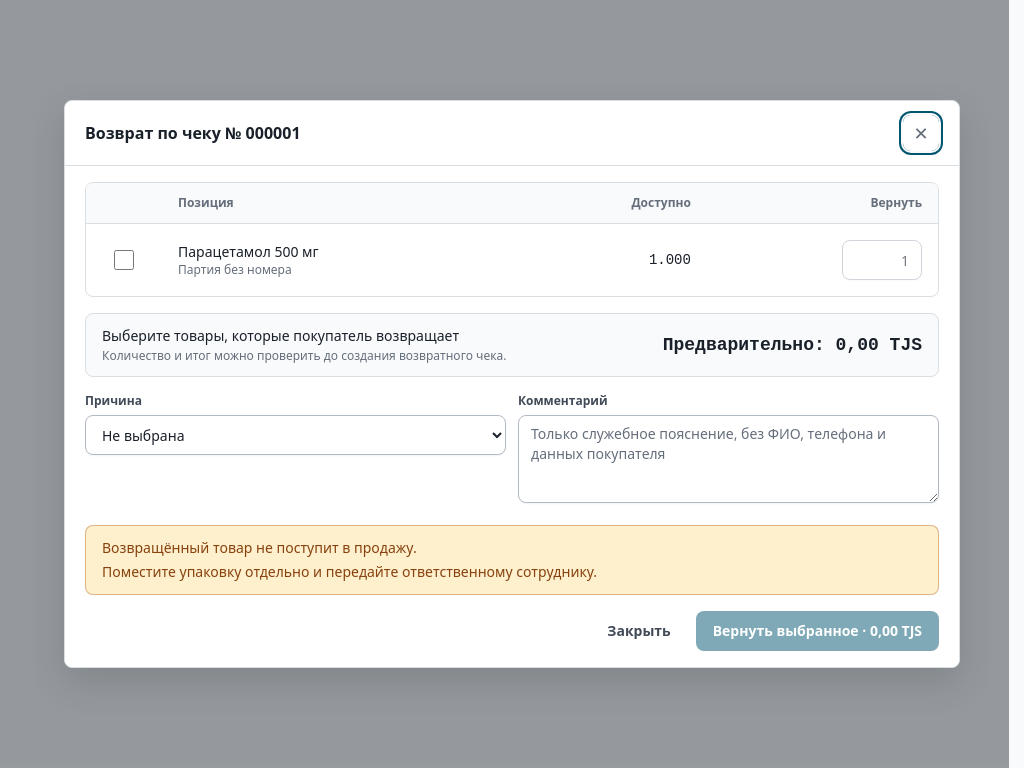
Test: RefundModal › preserves the cash refund command after POST 401 and a missing result
Click the checkbox named "Вернуть Парацетамол 500 мг" at coordinates (124, 260), box [114,250,134,270]
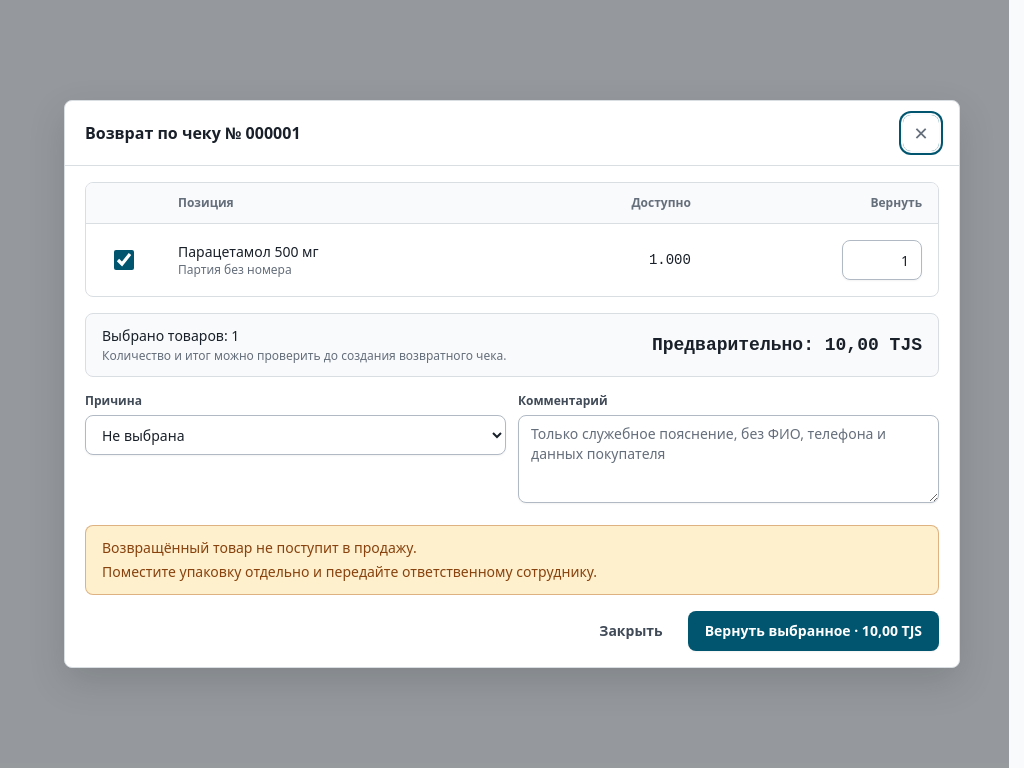
Click the button "Вернуть выбранное · 10,00 TJS" at coordinates (813, 631), box [688,611,939,651]
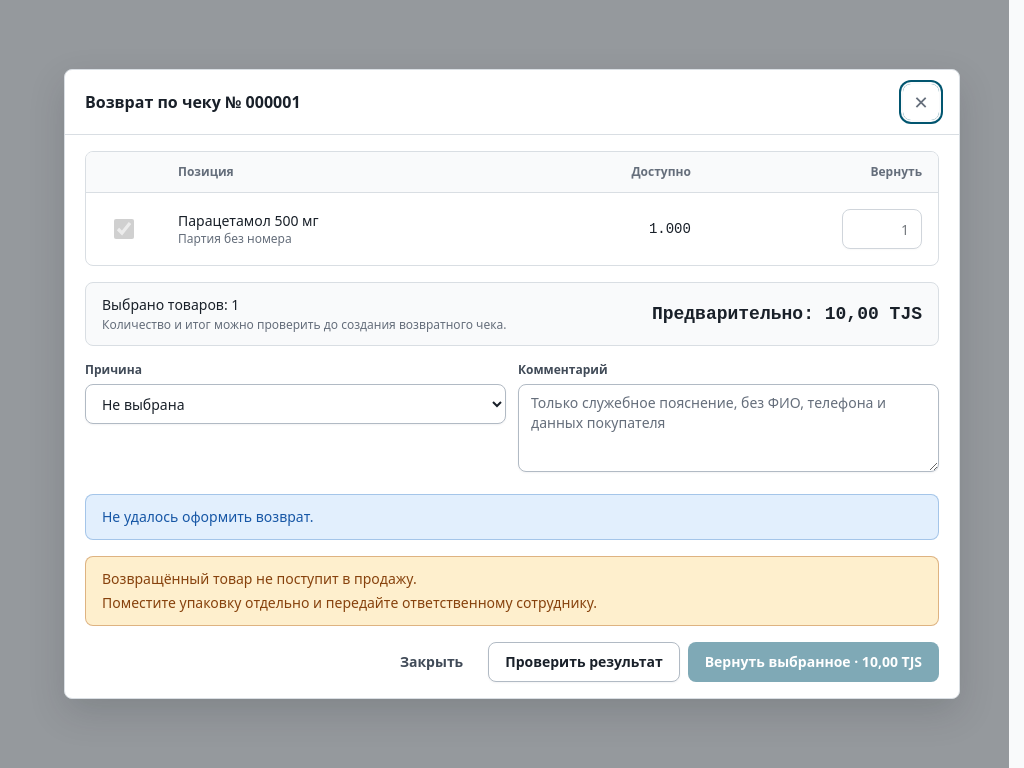
Expected: the button "Вернуть выбранное · 10,00 TJS" is disabled, [688,642,939,682]
